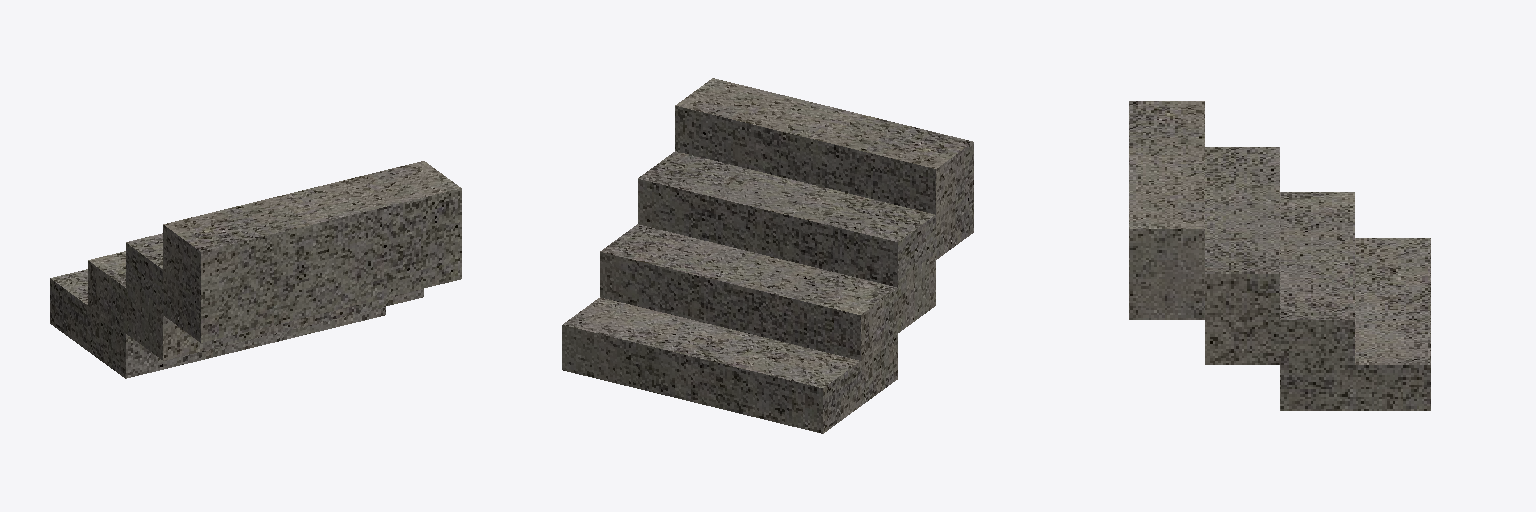
3 renders of one model, left to right at view 1: azimuth 30°, elevation 25°; view 2: azimuth 150°, elevation 25°; view 3: azimuth 270°, elevation 25°, orthographic.
Size of the model in its own units: 1 by 0.6667 by 1.
1 materials, 1 textured.